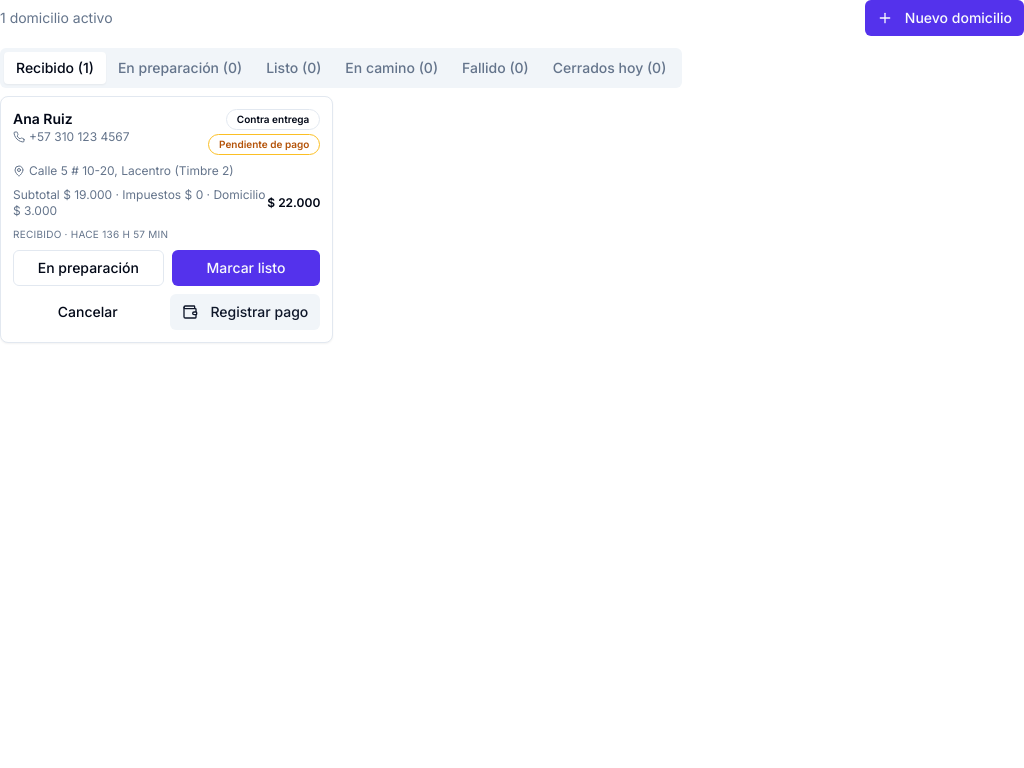
Test: DeliveryBoard — register open check › still opens the payment dialog for an open register, re-checking with one read
Check: the text "Ana Ruiz" is shown, box [13, 110, 73, 127]
Click the button "Registrar pago". click: (245, 312)
box: [170, 294, 320, 330]
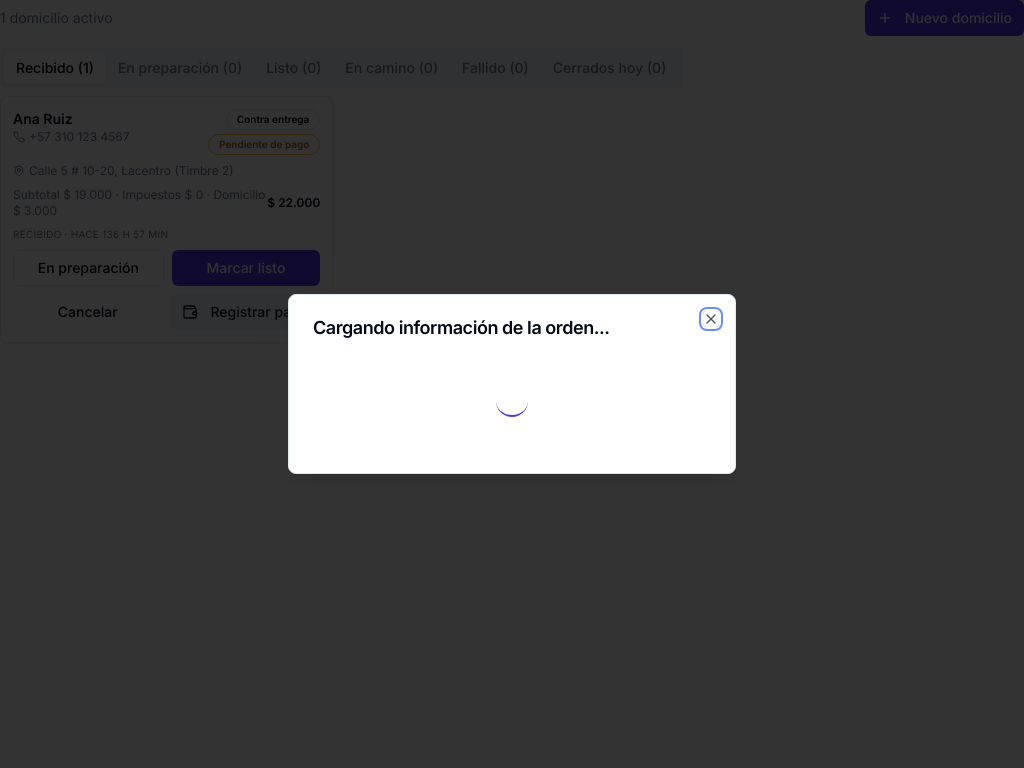
Check: the heading "Cargando información de la orden..." is shown, box [313, 317, 610, 338]
